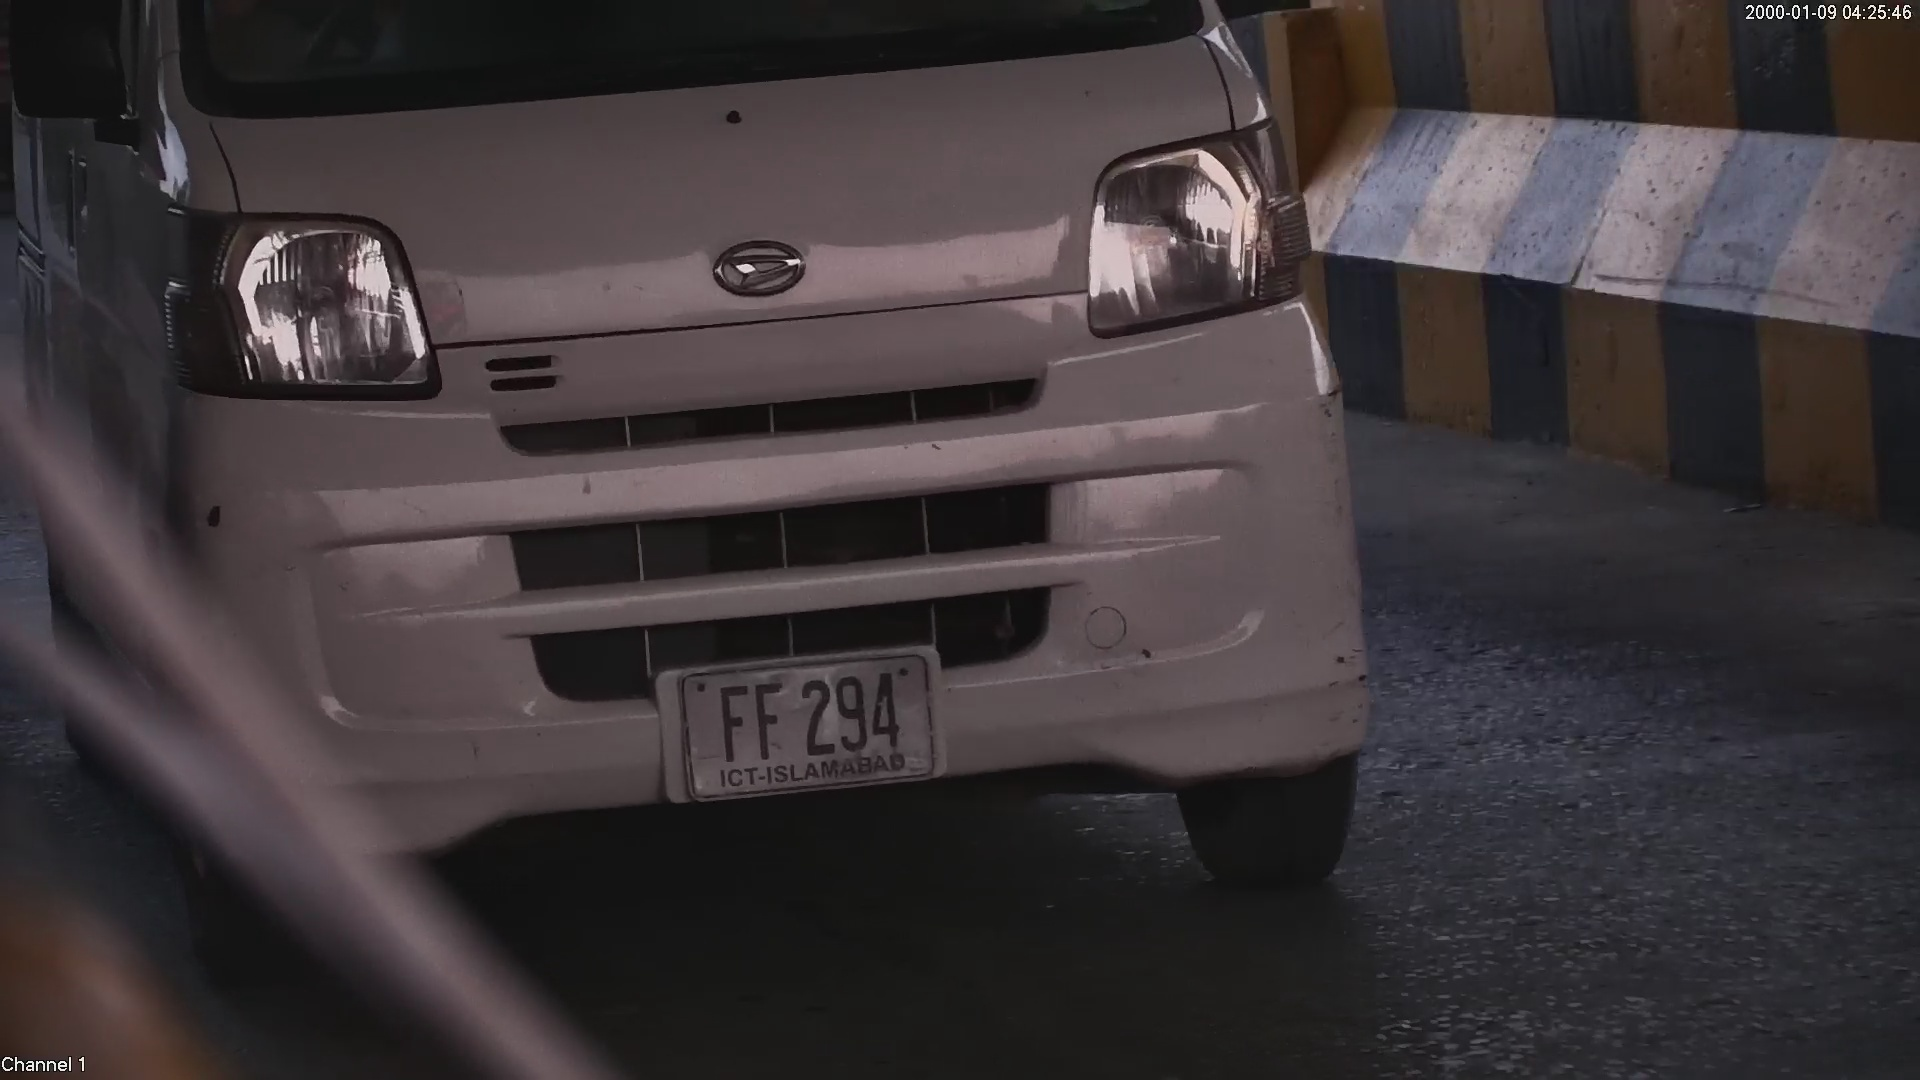Number_Plate: (647, 629, 958, 803)
Undefined: (165, 209, 430, 399), (1110, 149, 1308, 325), (700, 225, 815, 301)
